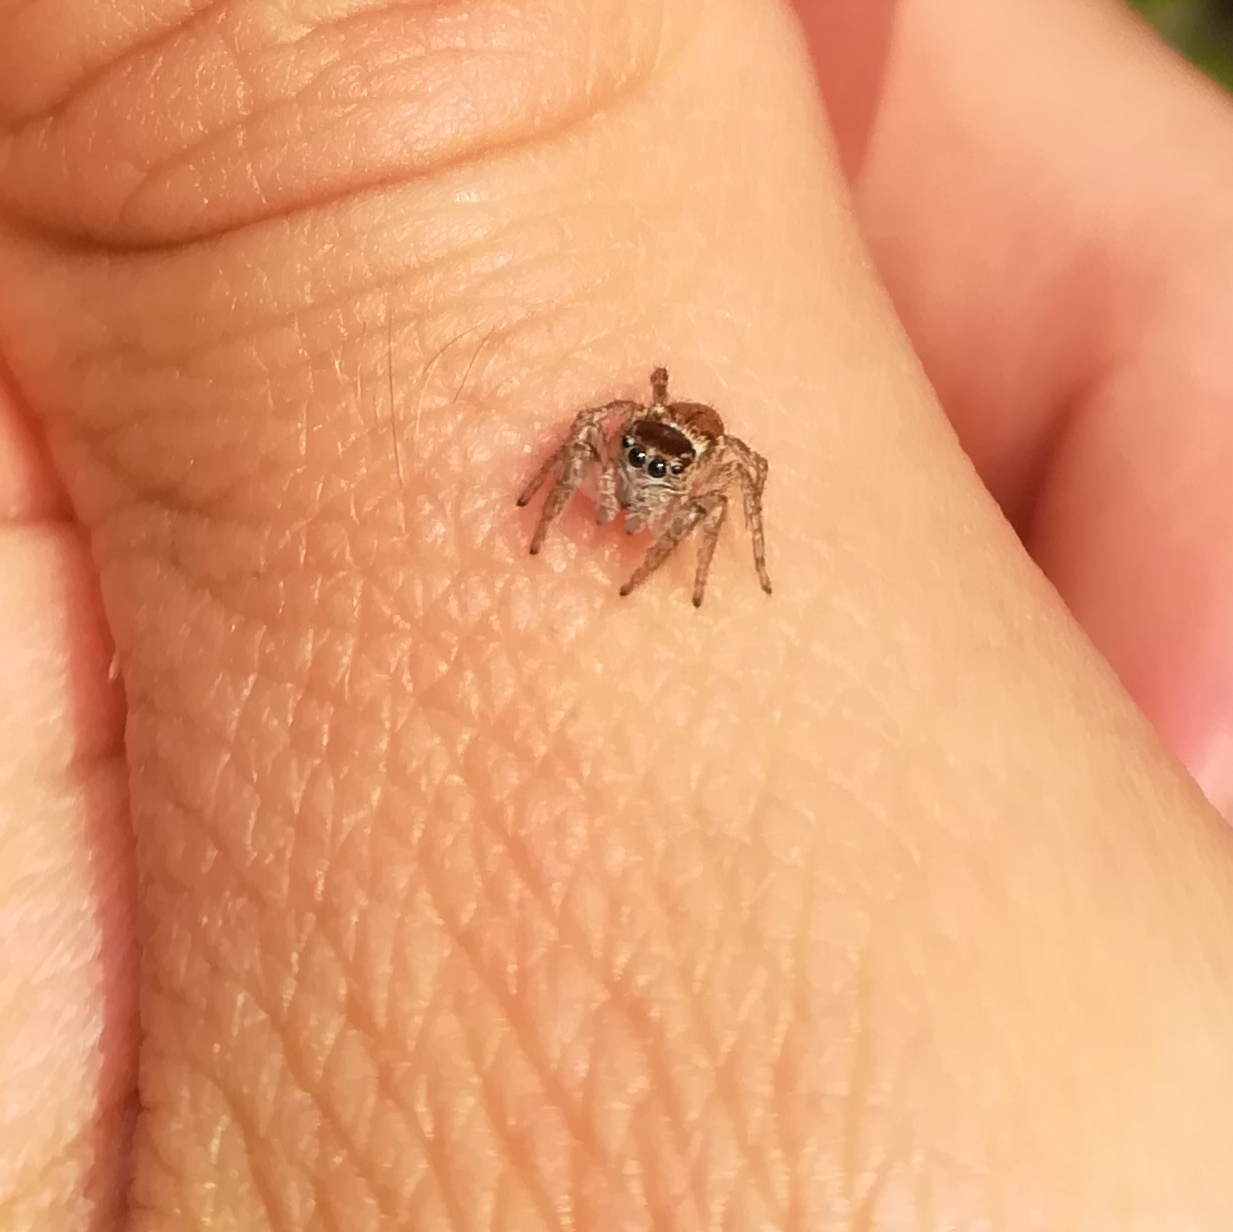spider: (488, 314, 838, 637)
